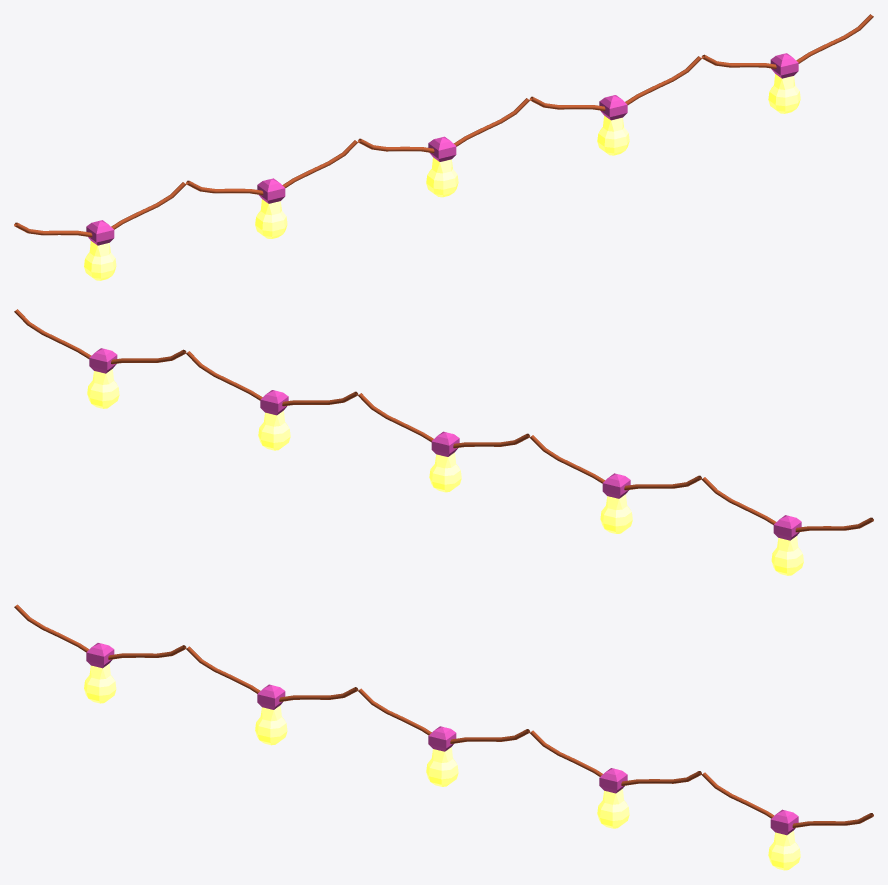
The model's file is LightsParty.fbx.
3 views of the same model, one above another, from view 1: azimuth 30°, elevation 25°; view 2: azimuth 150°, elevation 25°; view 3: azimuth 330°, elevation 25° (orthographic).
Parts seen in each view (by area): view 1: Lights, BézierCurve; view 2: Lights, BézierCurve; view 3: Lights, BézierCurve.
Boxes of the visible parts, x1,y1,x2,y2 form: Lights: [84, 53, 800, 280]; BézierCurve: [14, 14, 873, 237]; Lights: [87, 348, 803, 575]; BézierCurve: [14, 309, 873, 532]; Lights: [84, 643, 800, 870]; BézierCurve: [14, 604, 873, 827].
Size of the model in its own units: 728 by 60.94 by 21.31.
